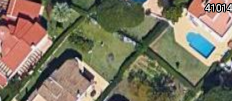pool: (187, 32, 210, 56)
